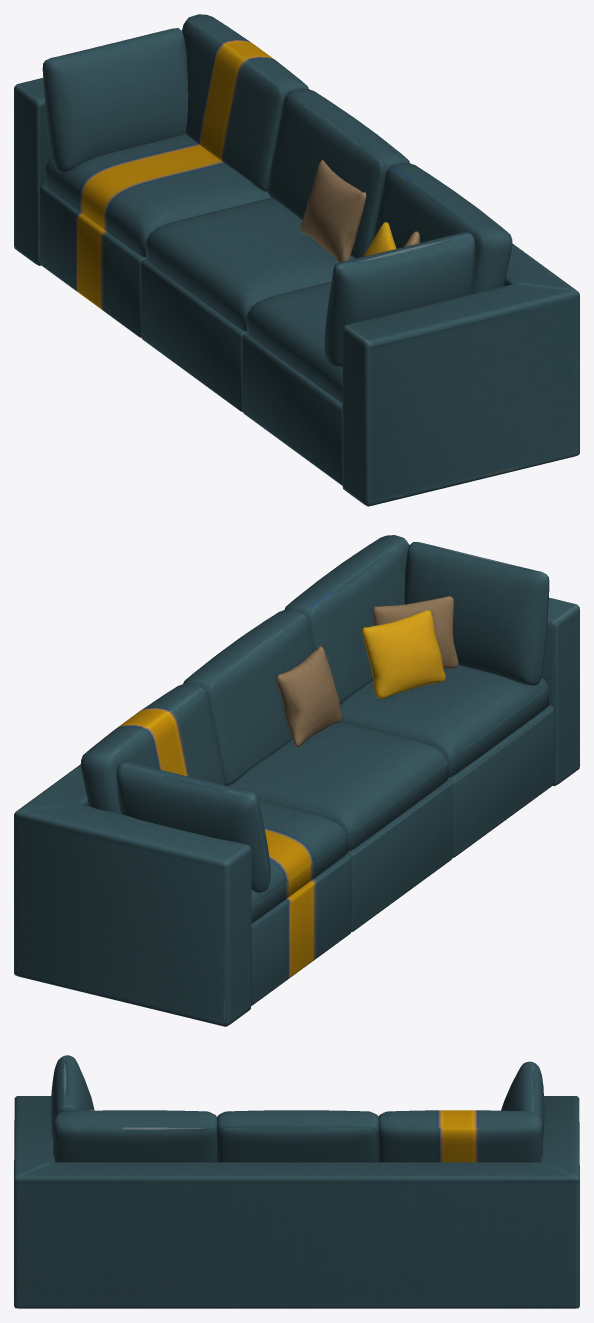
Rendered from EE_Sofa3Seater_01.gltf.
3 renders of one model, top to bottom at view 1: azimuth 30°, elevation 25°; view 2: azimuth 150°, elevation 25°; view 3: azimuth 270°, elevation 25°, orthographic. The views are drawn at different scales.
Parts seen in each view (by area): view 1: EE_Sofa3Seater_01.001; view 2: EE_Sofa3Seater_01.001; view 3: EE_Sofa3Seater_01.001.
Part boxes in pixels (box(x1,y1,x2,y2)): EE_Sofa3Seater_01.001: box(14, 14, 579, 506); EE_Sofa3Seater_01.001: box(14, 535, 579, 1026); EE_Sofa3Seater_01.001: box(14, 1055, 579, 1308).
Size of what is drawn, in the model's own units: 0.8181 by 0.7999 by 2.36.
Materials: 1 (1 with a texture image).
